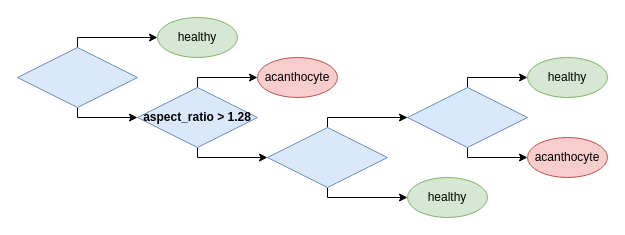
Image size: 625x235. Some labels were removed from this diagram. Here are the shapes that lost their labels. From the top down, the centre of each, then its label:
point (77, 77): circularity > 0.86
point (467, 117): aspect_ratio > 1.12
point (327, 157): h5 > 0.09
